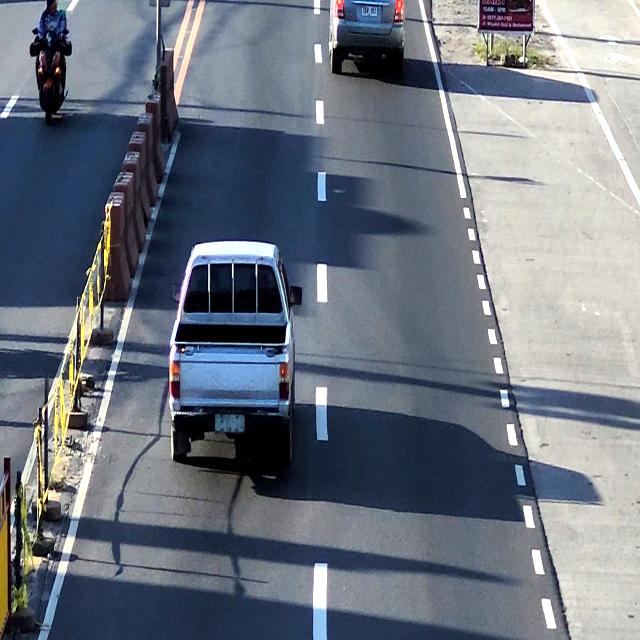Car: (326, 0, 406, 67)
License-Plate: (214, 412, 247, 438), (360, 2, 380, 17)
Truck: (166, 238, 301, 475)
